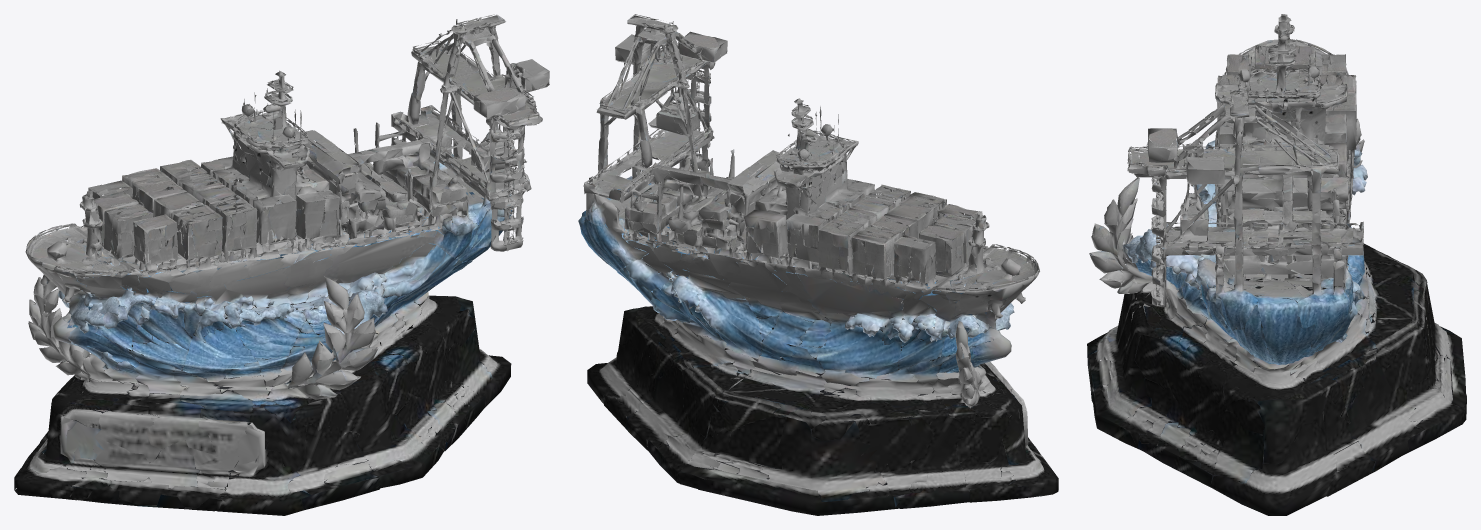
The model's file is award-stefan.glb.
3 renders of one model, left to right at view 1: azimuth 30°, elevation 25°; view 2: azimuth 150°, elevation 25°; view 3: azimuth 270°, elevation 25°, orthographic. The views are drawn at different scales.
Parts seen in each view (by area): view 1: Mesh_0; view 2: Mesh_0; view 3: Mesh_0.
Part boxes in pixels (x1,y1,x2,y2): Mesh_0: (14, 14, 549, 515); Mesh_0: (578, 14, 1058, 515); Mesh_0: (1087, 14, 1466, 515).
Size of the model in its own units: 1.9 by 1.41 by 1.22.
Materials: 1 (1 with a texture image).
